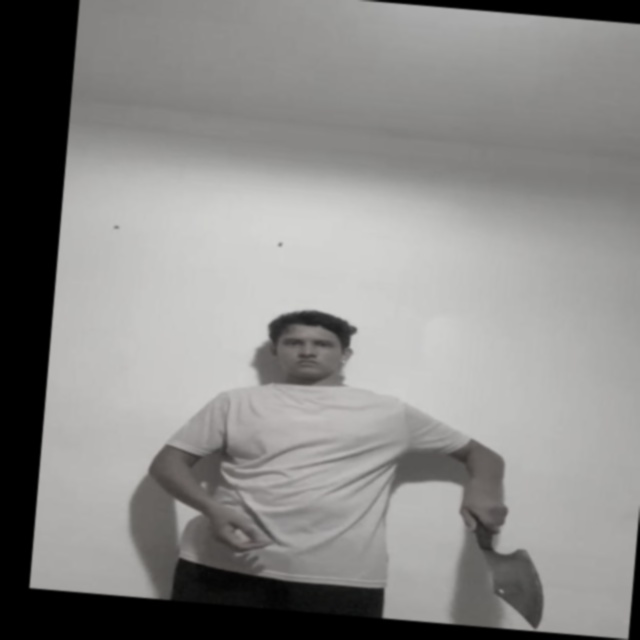Sharp-Object: (479, 544, 553, 629)
